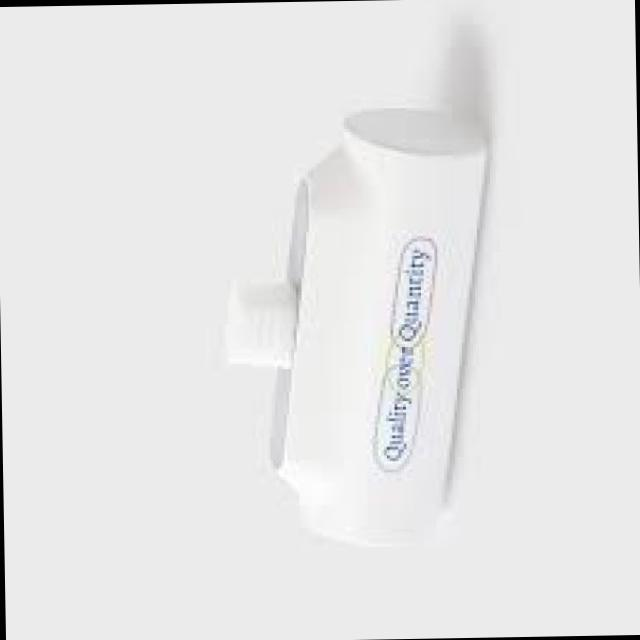portable-charger: (219, 104, 507, 553)
